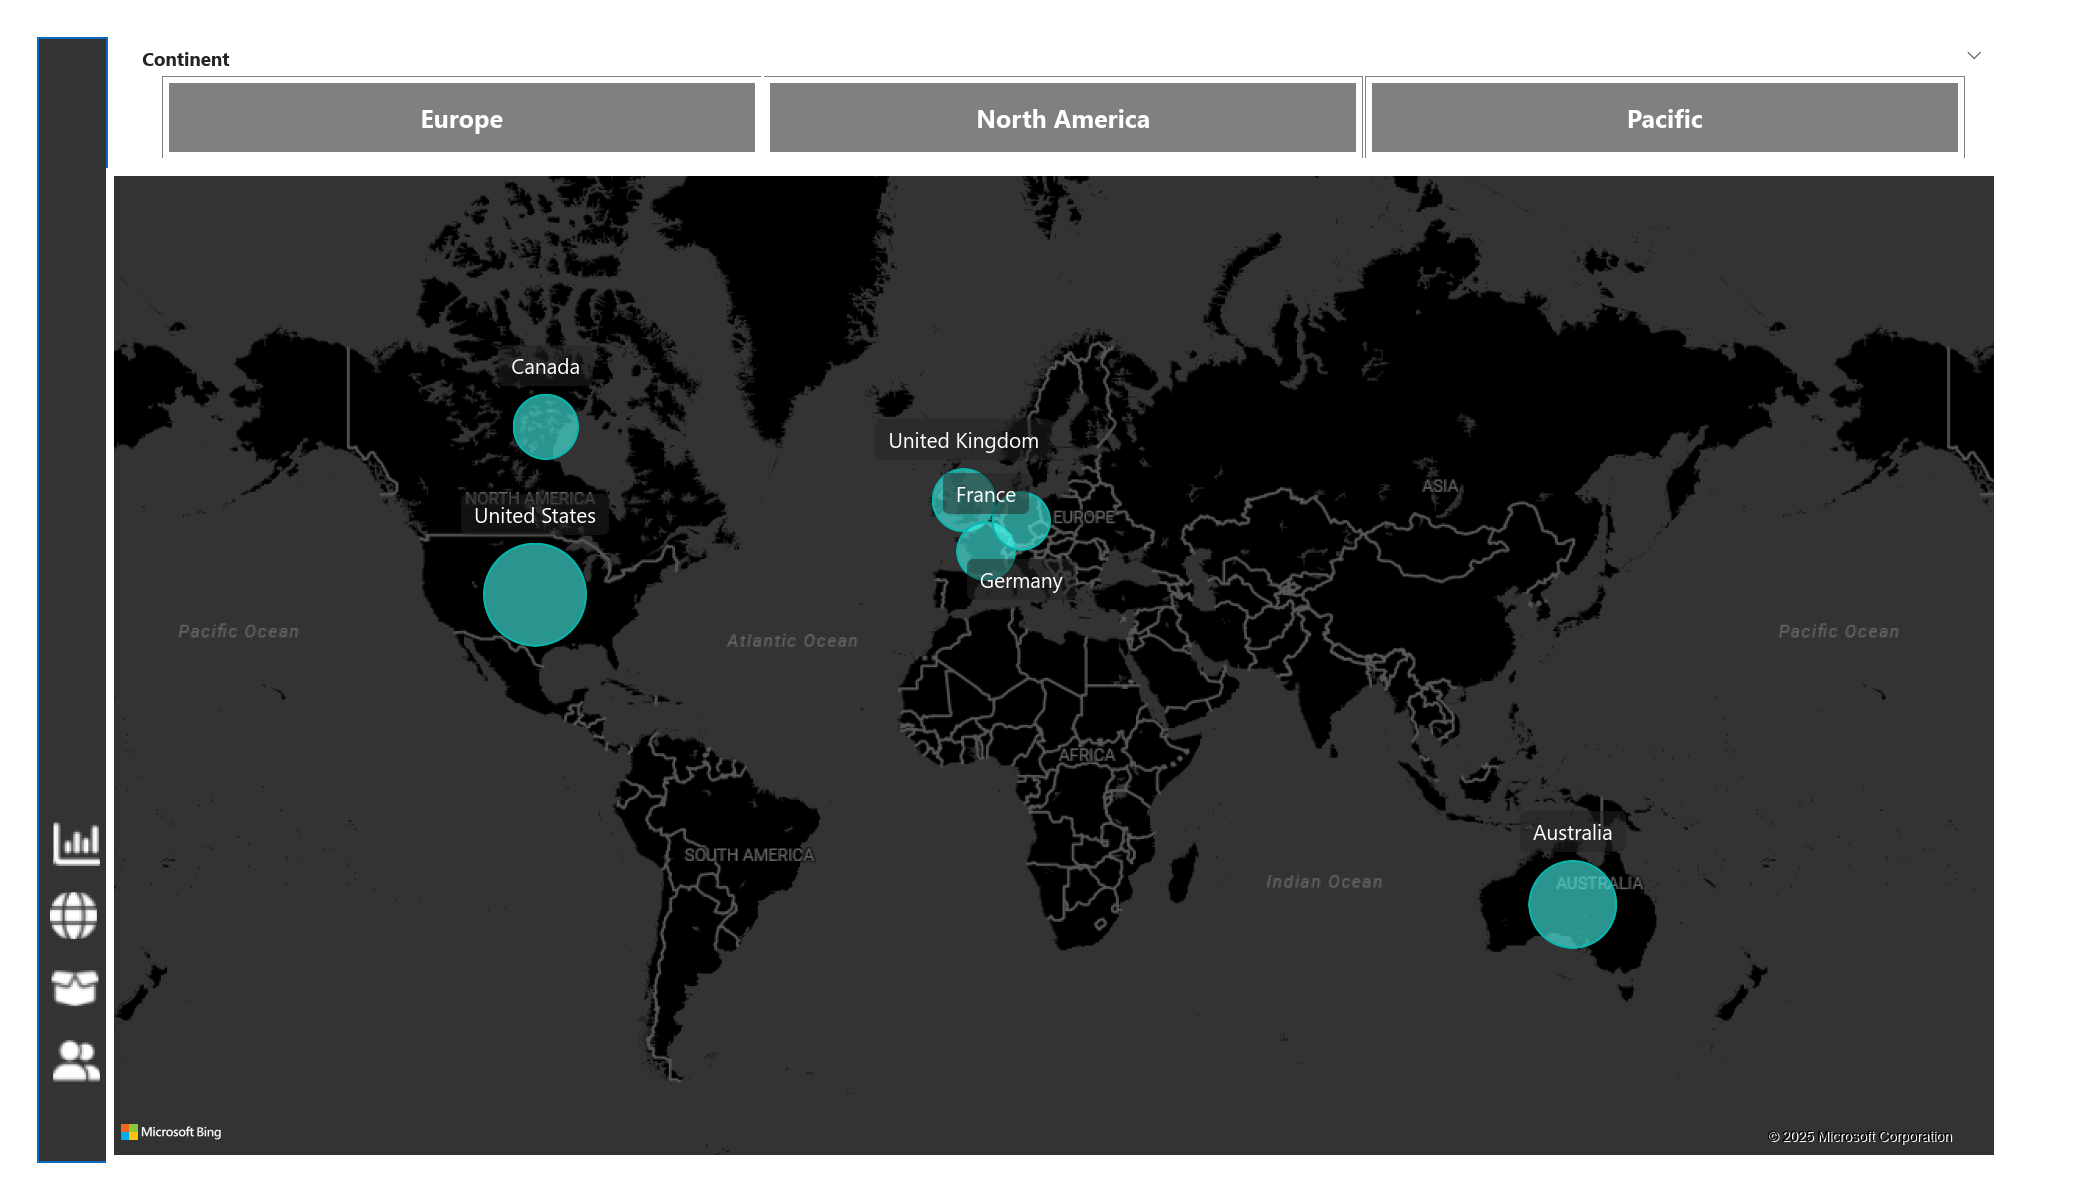

The page's visual inventory and layout, read from the dashboard file:
{"tool":"powerbi","page":{"name":"Map","canvas":[1280,720],"ordinal":1},"visuals":[{"type":"shape","box":[0,0,45,720.1],"z":0},{"type":"actionButton","box":[6.1,497.5,66.2,37.5],"z":0,"group":"g1"},{"type":"actionButton","box":[3.7,542.9,66,37.9],"z":1000,"group":"g1"},{"type":"map","fields":{"Category":["Territory Lookup.Country"],"Size":["Table.Total orders"]},"box":[44.3,84.3,1212.9,635.7],"z":1000},{"type":"slicer","fields":{"Values":["Territory Lookup.Continent"]},"box":[54.3,0,1202.9,84.3],"z":2000},{"type":"actionButton","box":[4.9,589.4,55,37.9],"z":2000,"group":"g1"},{"type":"actionButton","box":[6.1,635.9,66,37.9],"z":3000,"group":"g1"},{"type":"group","id":"g1","title":"Navigation buttons","box":[3.7,497.5,68.7,176.3],"z":3000}]}

Visuals, with their boxes in screenshot pixels (x1, y1, x2, y2):
shape: box=[32, 43, 102, 1153]
actionButton: box=[42, 810, 144, 868]
actionButton: box=[38, 880, 140, 939]
map - Territory Lookup.Country x Table.Total orders: box=[101, 173, 1971, 1153]
slicer - Territory Lookup.Continent: box=[116, 43, 1971, 173]
actionButton: box=[40, 952, 125, 1010]
actionButton: box=[42, 1024, 143, 1082]
"Navigation buttons" group: box=[38, 810, 144, 1082]
